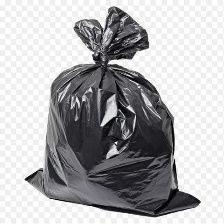plastic_bag: (20, 4, 206, 218)
